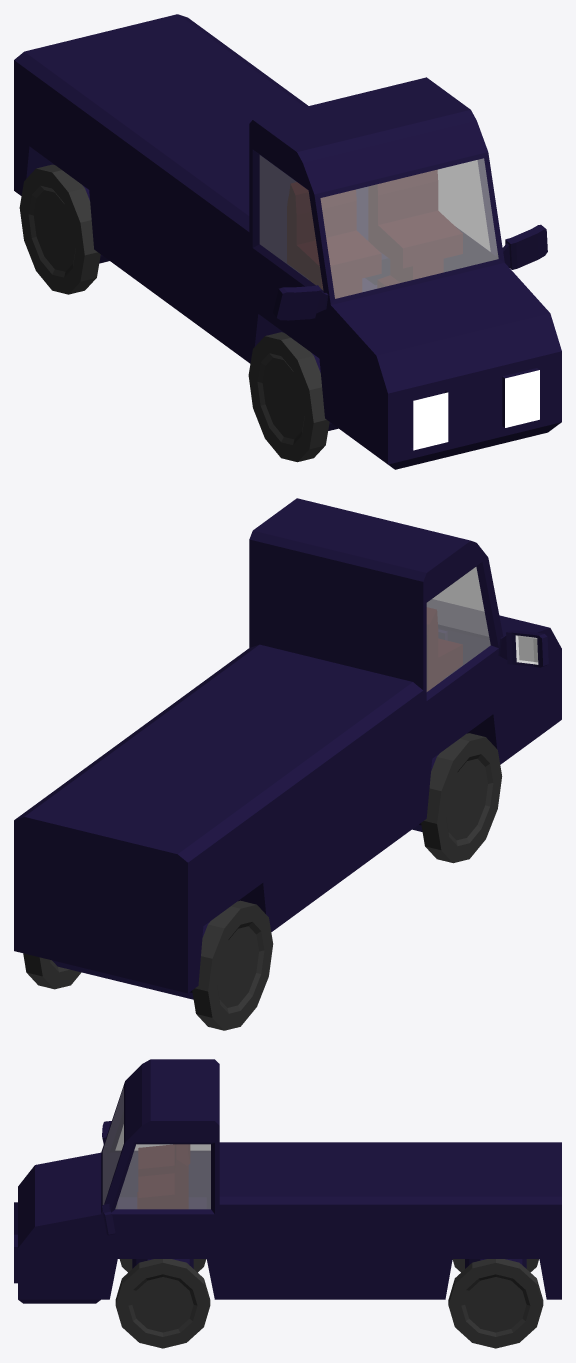
Rendered from cars5.glb.
3 views of the same model, one above another, from view 1: azimuth 30°, elevation 25°; view 2: azimuth 150°, elevation 25°; view 3: azimuth 270°, elevation 25° (orthographic). The views are drawn at different scales.
Parts seen in each view (by area): view 1: Car5, Car5Tire1, Car5Tire2; view 2: Car5, Car5Tire2, Car5Tire1; view 3: Car5, Car5Tire2, Car5Tire1.
Part boxes in pixels (bbox=[...]): Car5: bbox=[14, 14, 561, 469]; Car5Tire1: bbox=[248, 332, 338, 462]; Car5Tire2: bbox=[19, 164, 109, 294]; Car5: bbox=[14, 498, 561, 993]; Car5Tire2: bbox=[23, 900, 273, 1030]; Car5Tire1: bbox=[412, 733, 502, 863]; Car5: bbox=[14, 1059, 561, 1303]; Car5Tire2: bbox=[448, 1259, 543, 1348]; Car5Tire1: bbox=[115, 1259, 210, 1348].
Bounding box in the file's own units: 1.65 × 1.8 × 3.96.
